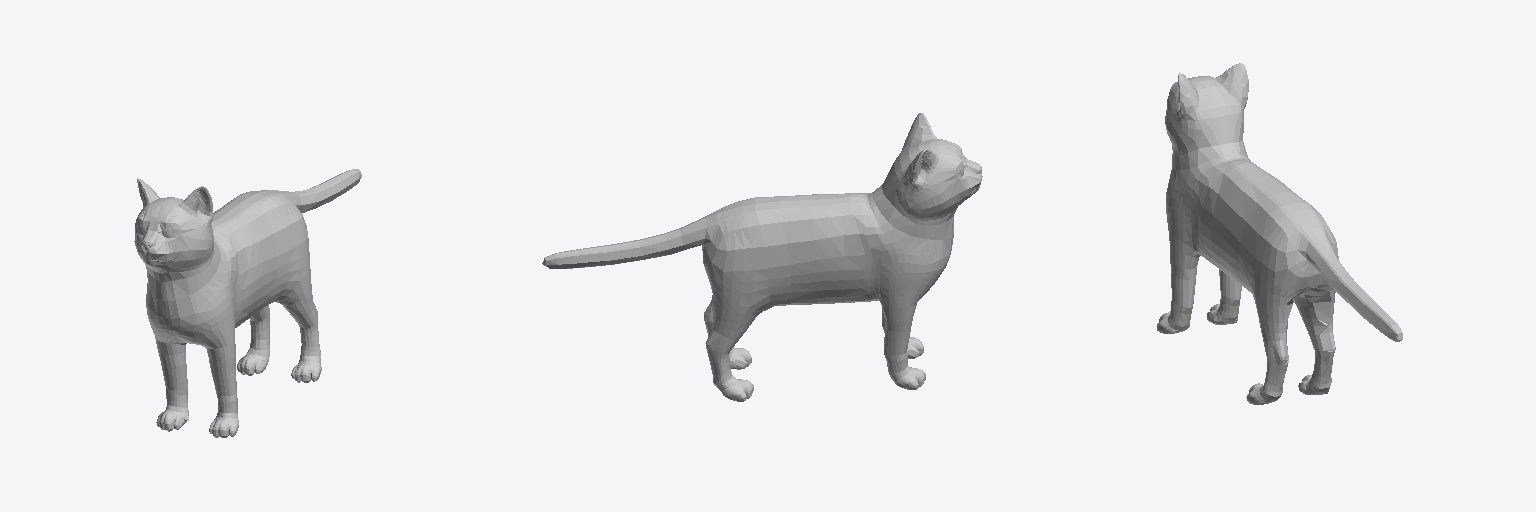
File: cat.obj
The picture shows the model from 3 angles: view 1: azimuth 30°, elevation 25°; view 2: azimuth 150°, elevation 25°; view 3: azimuth 270°, elevation 25°; orthographic projection.
Parts seen in each view (by area): view 1: Cat; view 2: Cat; view 3: Cat.
Boxes of the visible parts, x1=… form: Cat: x1=134, y1=169, x2=361, y2=437; Cat: x1=542, y1=113, x2=982, y2=401; Cat: x1=1157, y1=63, x2=1402, y2=404.
Bounding box in the file's own units: 1.51 × 1.15 × 0.9779.